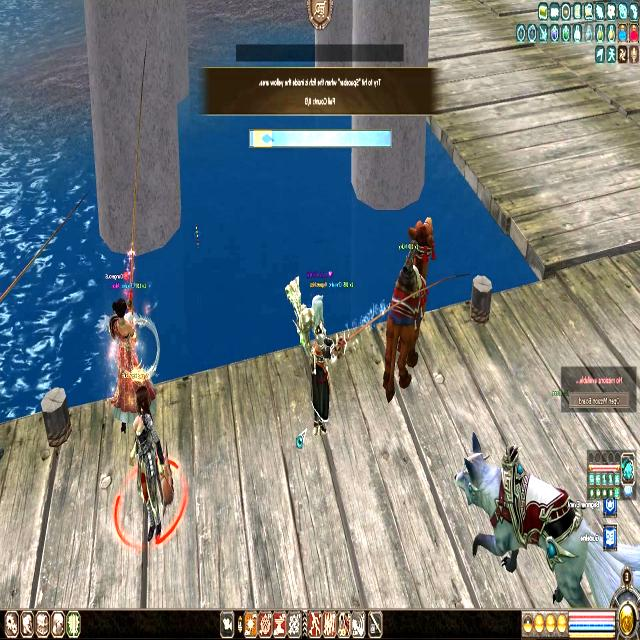fishes: (261, 132, 275, 146)
